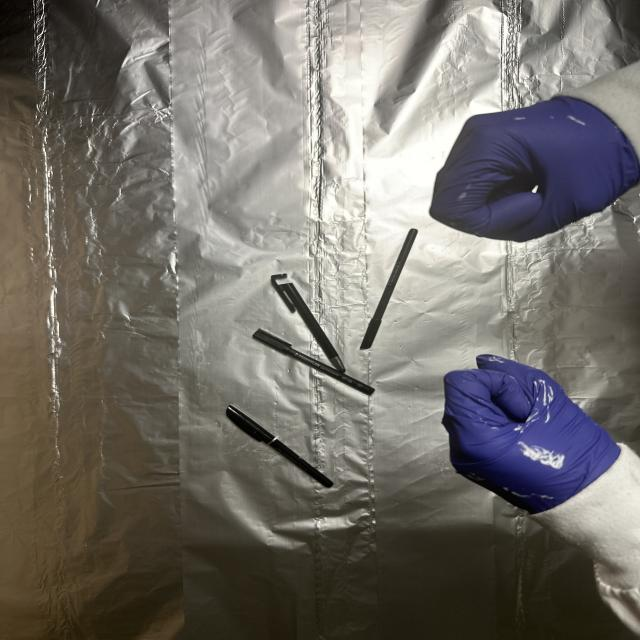gloves_contaminated: (430, 99, 638, 241), (443, 356, 620, 512)
